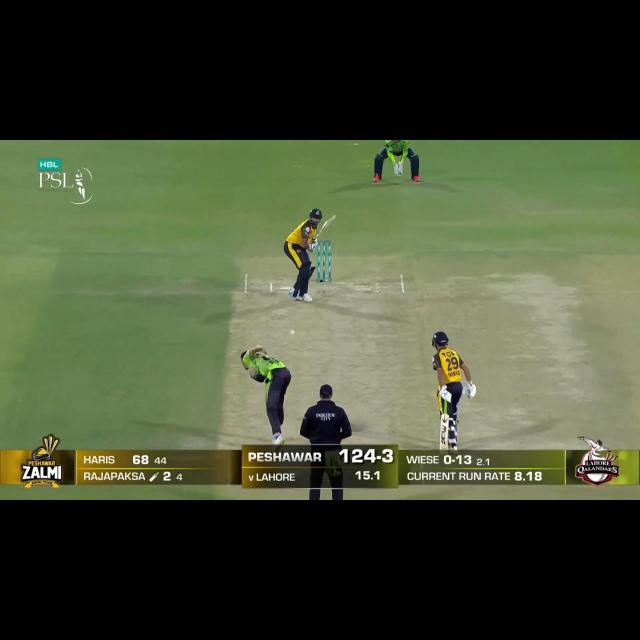bat: (314, 216, 336, 239), (439, 414, 448, 449)
toe: (439, 445, 449, 450), (327, 216, 336, 221)
